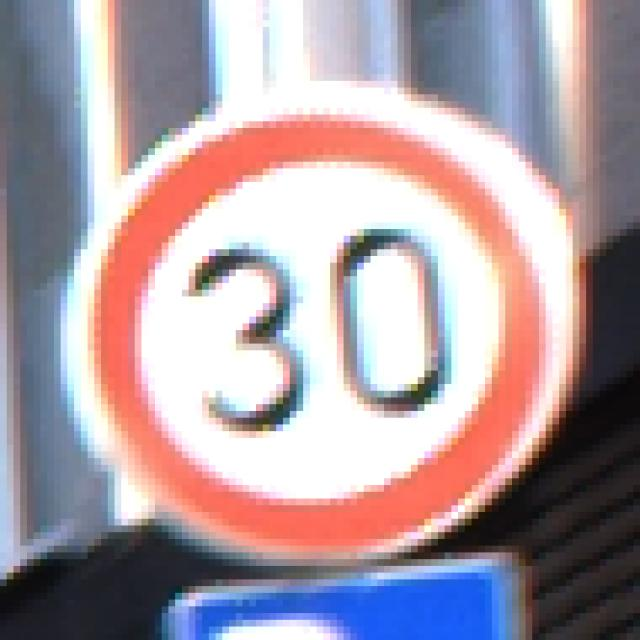Speed Limit -30-: (50, 50, 582, 582)
